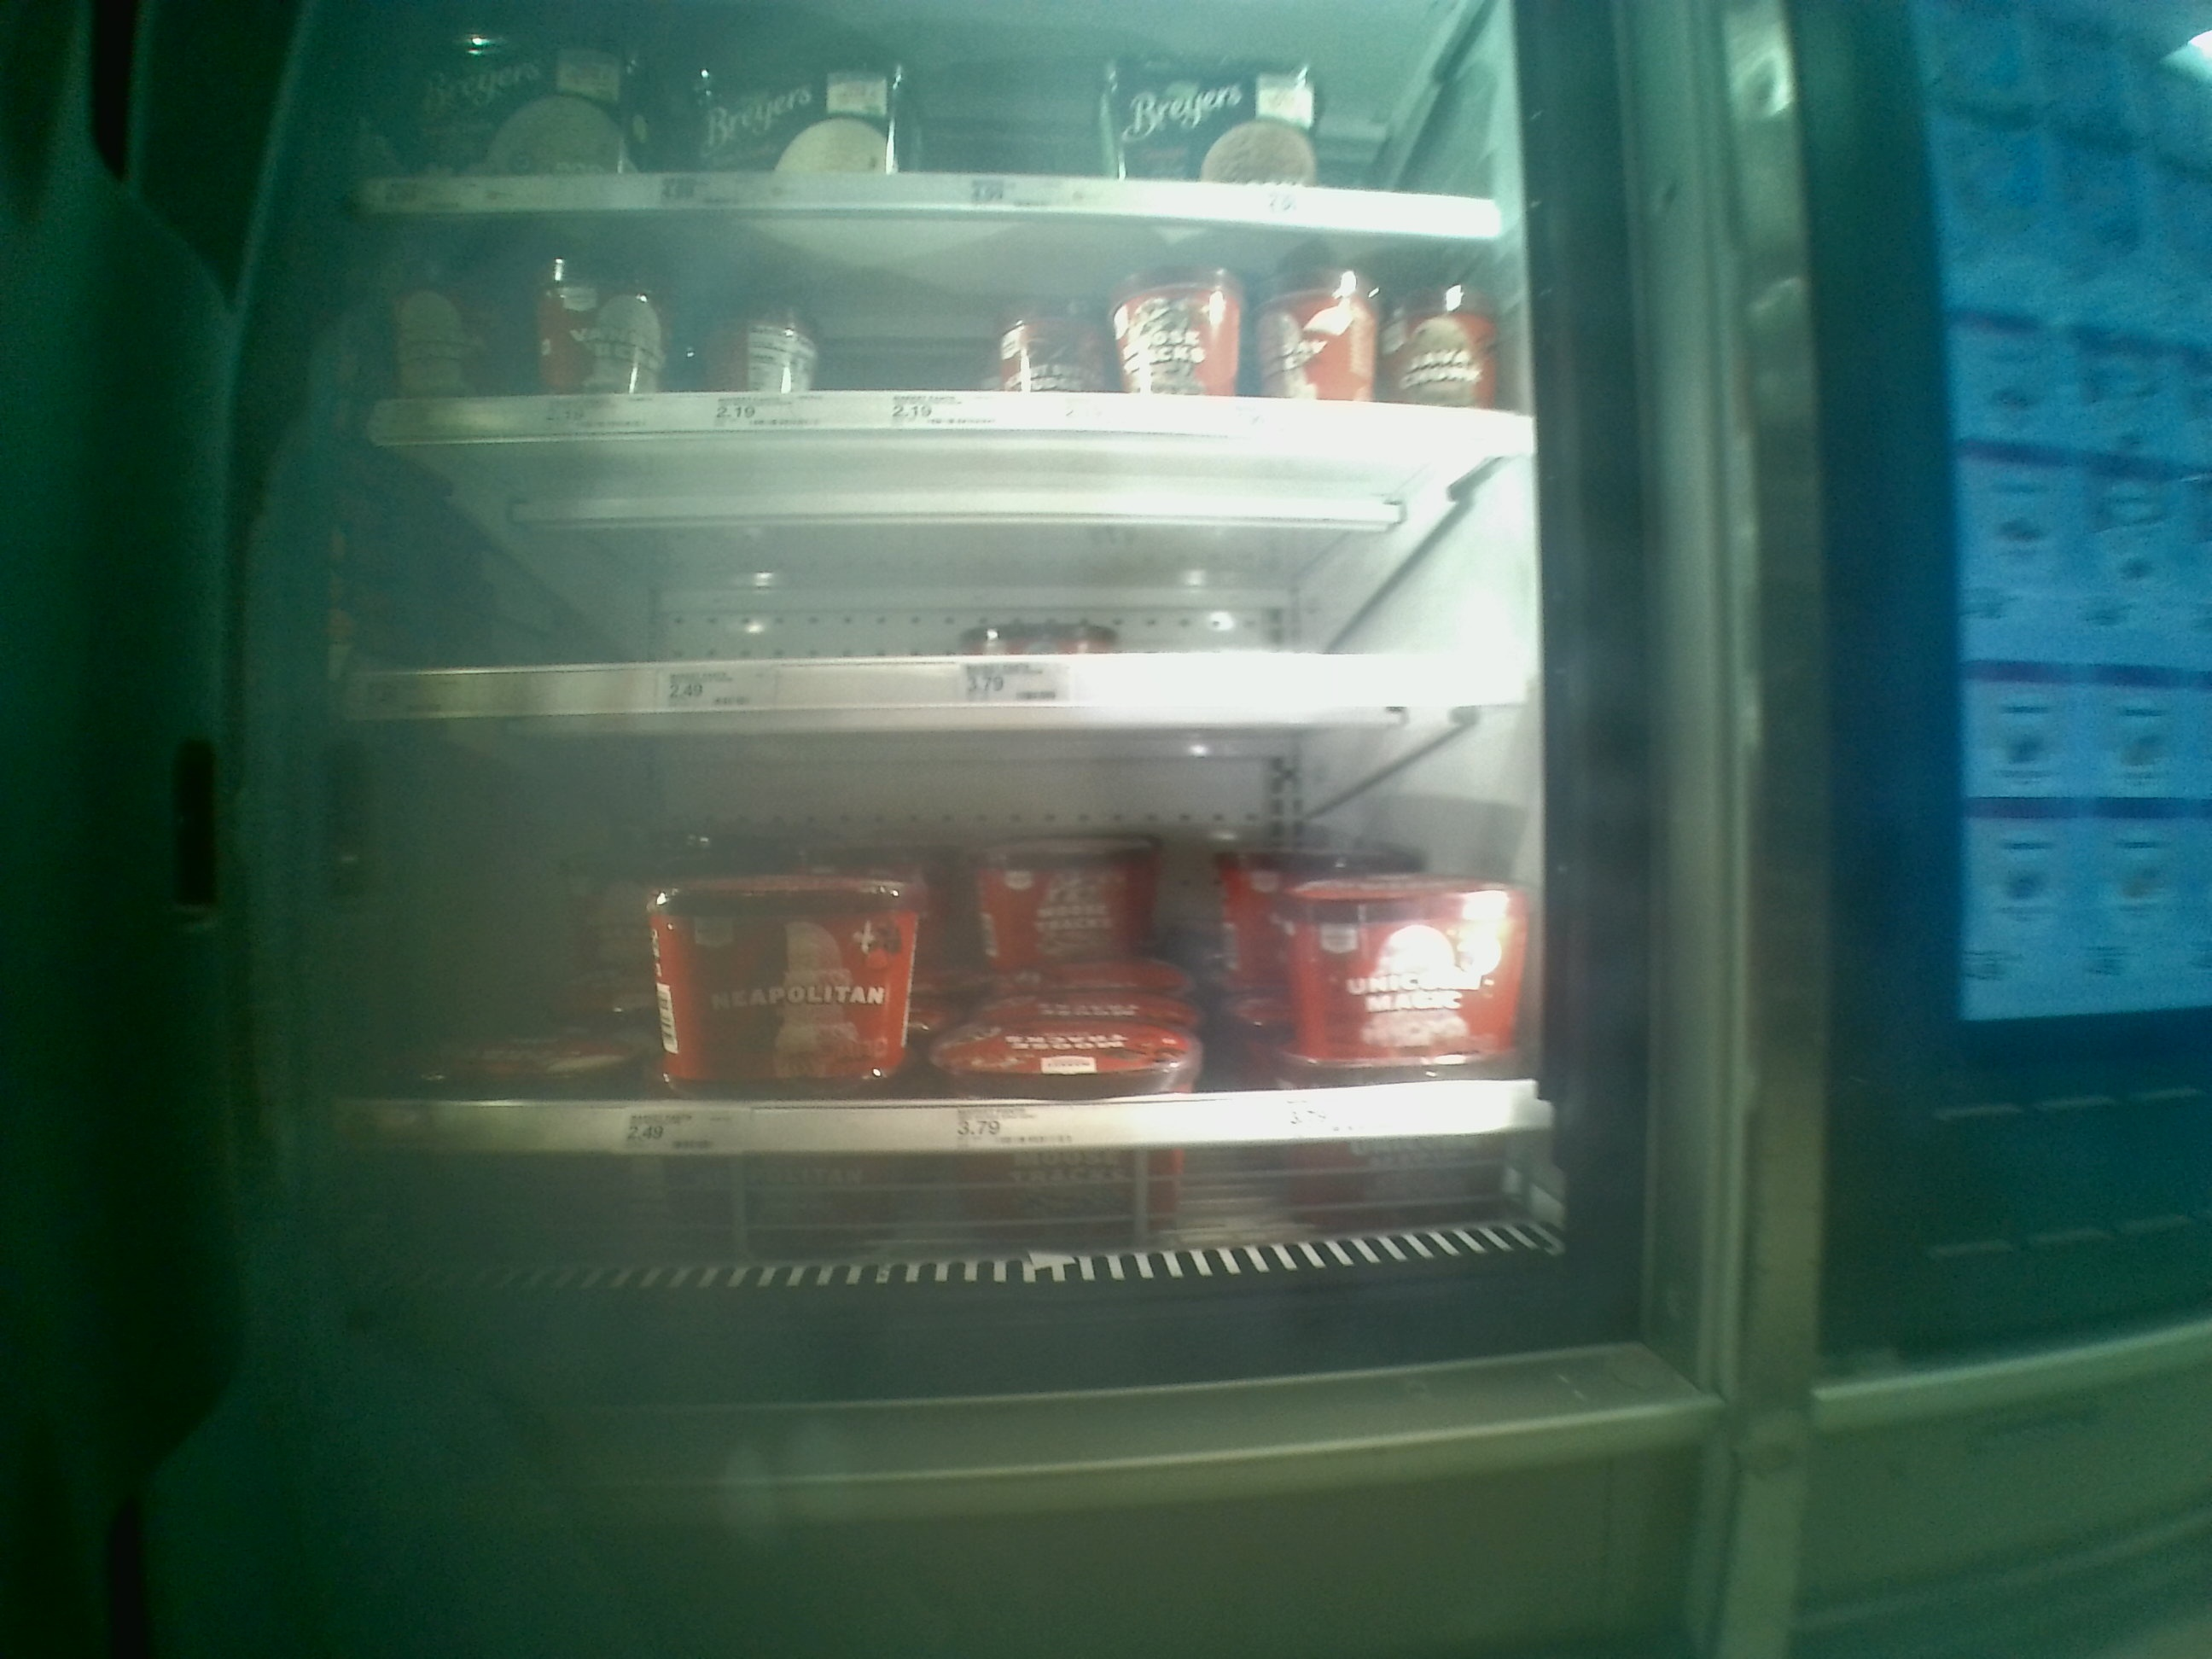ice-cream-shelf: (326, 713, 1541, 1166), (341, 448, 1543, 713), (348, 211, 1531, 448)
